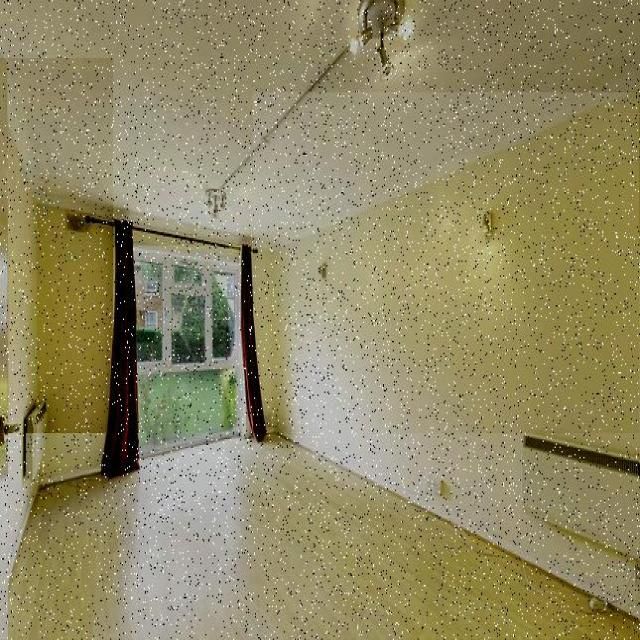Wall: (254, 92, 639, 598), (0, 0, 640, 246), (9, 435, 639, 639), (0, 58, 113, 482)
